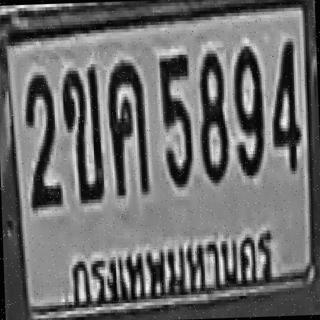A02: (60, 64, 102, 200)
A04: (106, 59, 147, 196)
N02: (22, 71, 59, 205)
N04: (269, 38, 300, 171)
N05: (157, 52, 192, 185)
N08: (197, 50, 227, 180)
N09: (231, 43, 262, 176)
P04: (63, 209, 281, 316)
